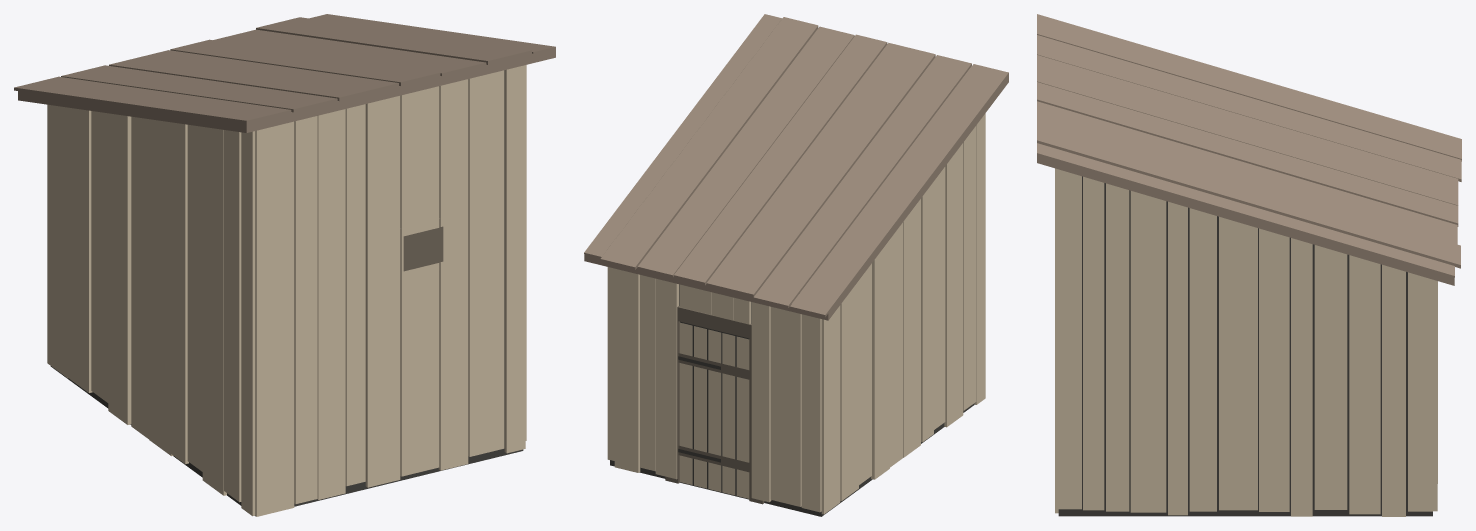
The model's file is recon_1835_south_a5_044__inferred_1835.glb.
3 renders of one model, left to right at view 1: azimuth 30°, elevation 25°; view 2: azimuth 150°, elevation 25°; view 3: azimuth 270°, elevation 25°, orthographic. The views are drawn at different scales.
Parts seen in each view (by area): view 1: recon_1835_south_a5_044__inferred_1835; view 2: recon_1835_south_a5_044__inferred_1835; view 3: recon_1835_south_a5_044__inferred_1835.
Part boxes in pixels (x1,y1,x2,y2): recon_1835_south_a5_044__inferred_1835: [14, 14, 555, 516]; recon_1835_south_a5_044__inferred_1835: [584, 14, 1008, 516]; recon_1835_south_a5_044__inferred_1835: [1037, 14, 1461, 516].
Bounding box in the file's own units: 2.96 × 3.75 × 3.85.
